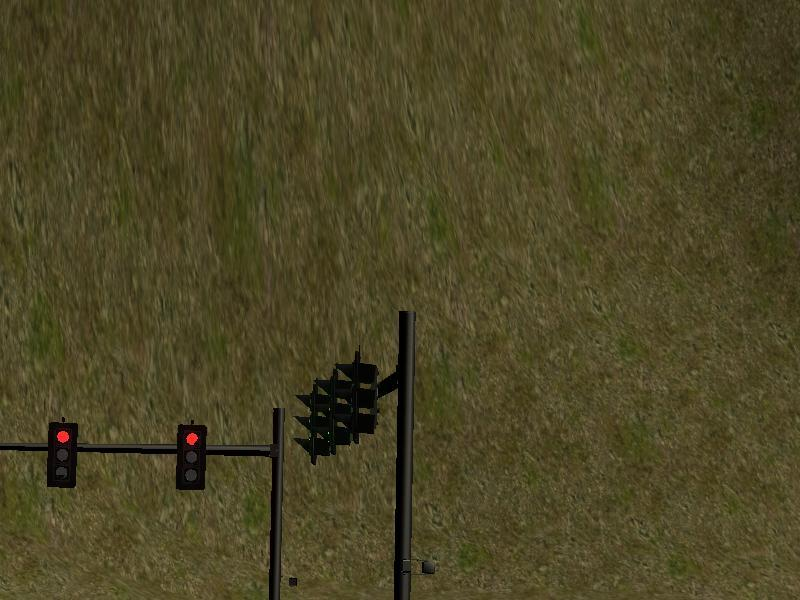Red: (49, 424, 76, 487), (180, 426, 206, 487)
